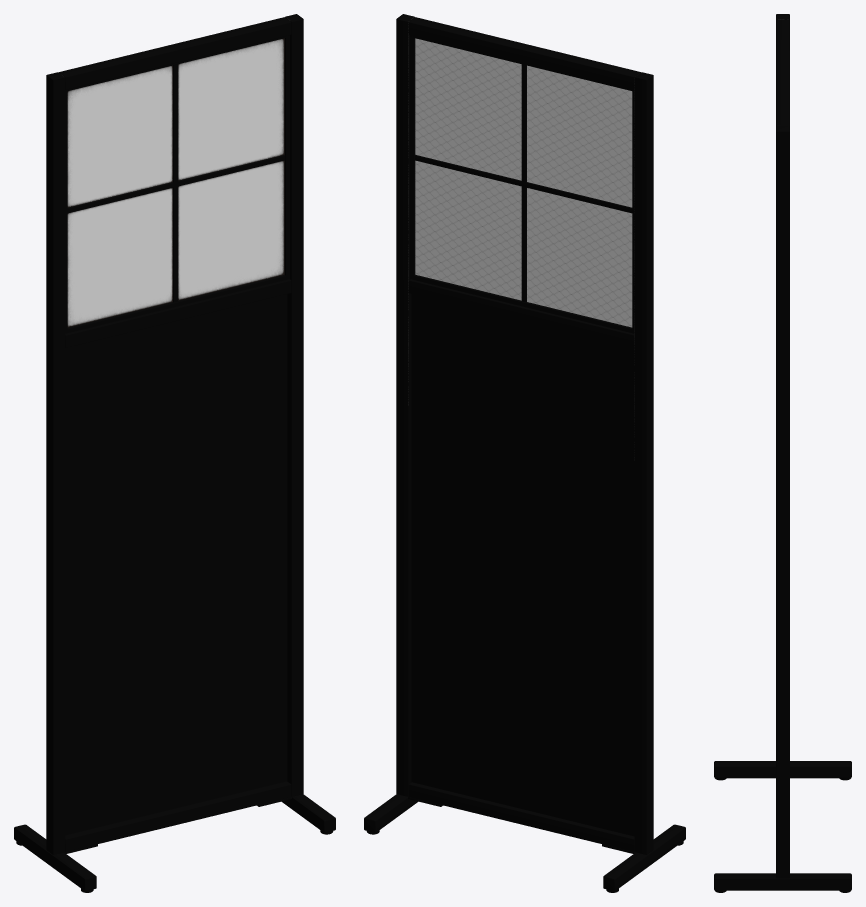
Rendered from MEGA_PACK_door__door-305142_Black.glb.
The picture shows the model from 3 angles, left to right: view 1: azimuth 30°, elevation 25°; view 2: azimuth 150°, elevation 25°; view 3: azimuth 270°, elevation 25°; orthographic projection. The views are drawn at different scales.
Parts seen in each view (by area): view 1: door-305142_Black; view 2: door-305142_Black; view 3: door-305142_Black.
Part boxes in pixels (left/top/right/bottom): door-305142_Black: left=14, top=14, right=335, bottom=892; door-305142_Black: left=364, top=14, right=685, bottom=892; door-305142_Black: left=714, top=14, right=851, bottom=892.
Bounding box in the file's own units: 0.5995 × 1.8 × 0.2953.
Materials: 1 (1 with a texture image).
